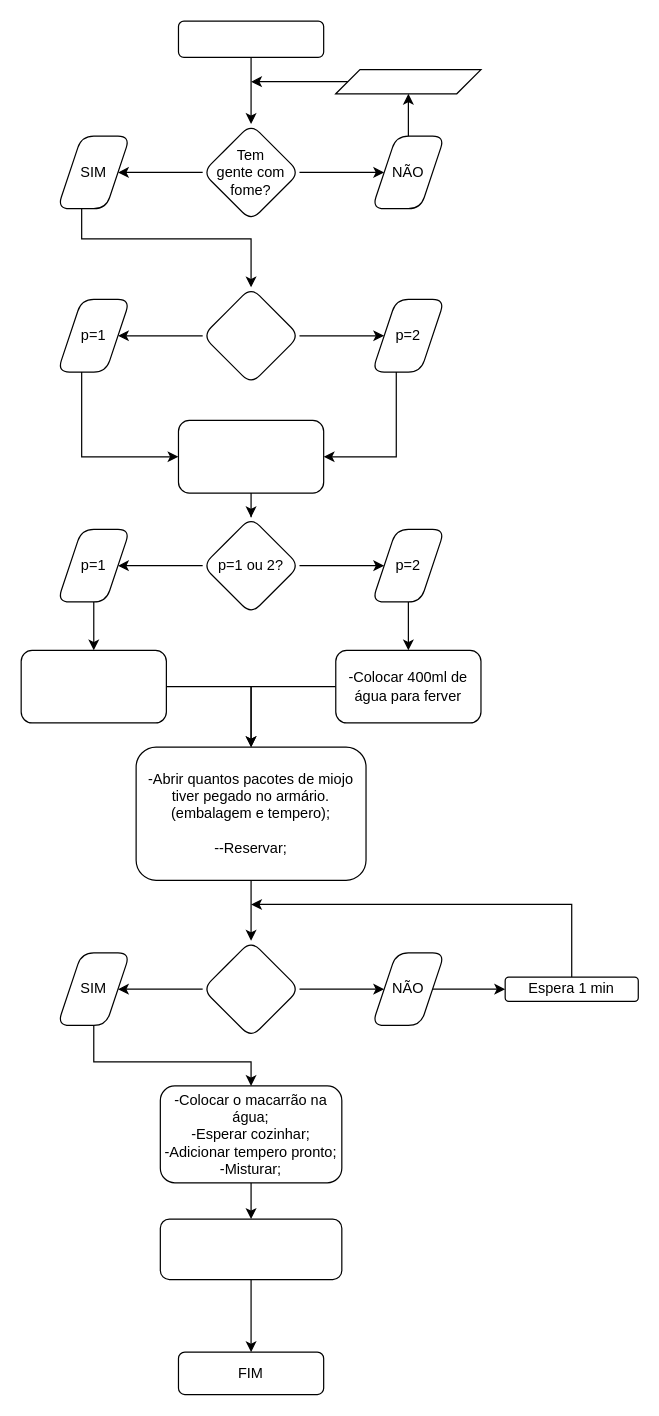
The diagram is 659 pixels wide and 1416 high, and some of its shapes have lost their labels. Each missing label, with the centre of its shape:
"-Colocar 200ml de água para ferver" belongs at pixel 93 686.
"-Servir em (p) pratos(s); -Comer;" belongs at pixel 250 1249.
"A água ferveu?" belongs at pixel 250 989.
"Espera 20min" belongs at pixel 408 81.
"Inicio" belongs at pixel 250 38.
"Pegar (p) miojo(s) no armáro" belongs at pixel 250 456.
"Quantas pessoas?" belongs at pixel 250 335.
